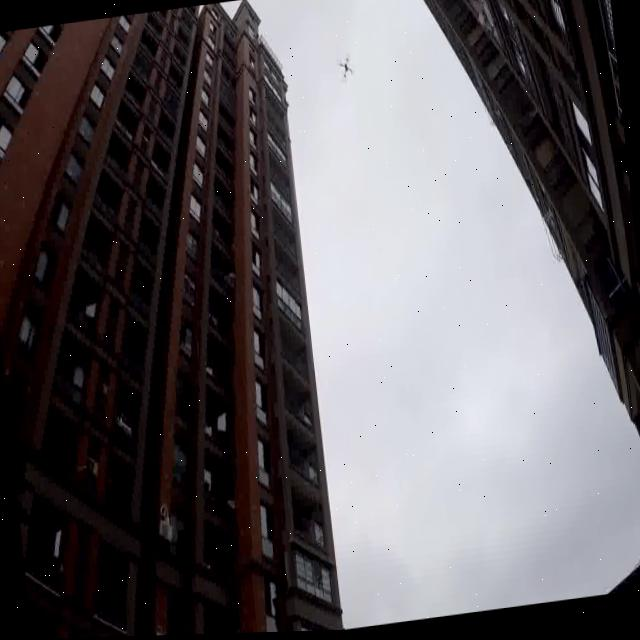drone: (324, 40, 374, 98)
